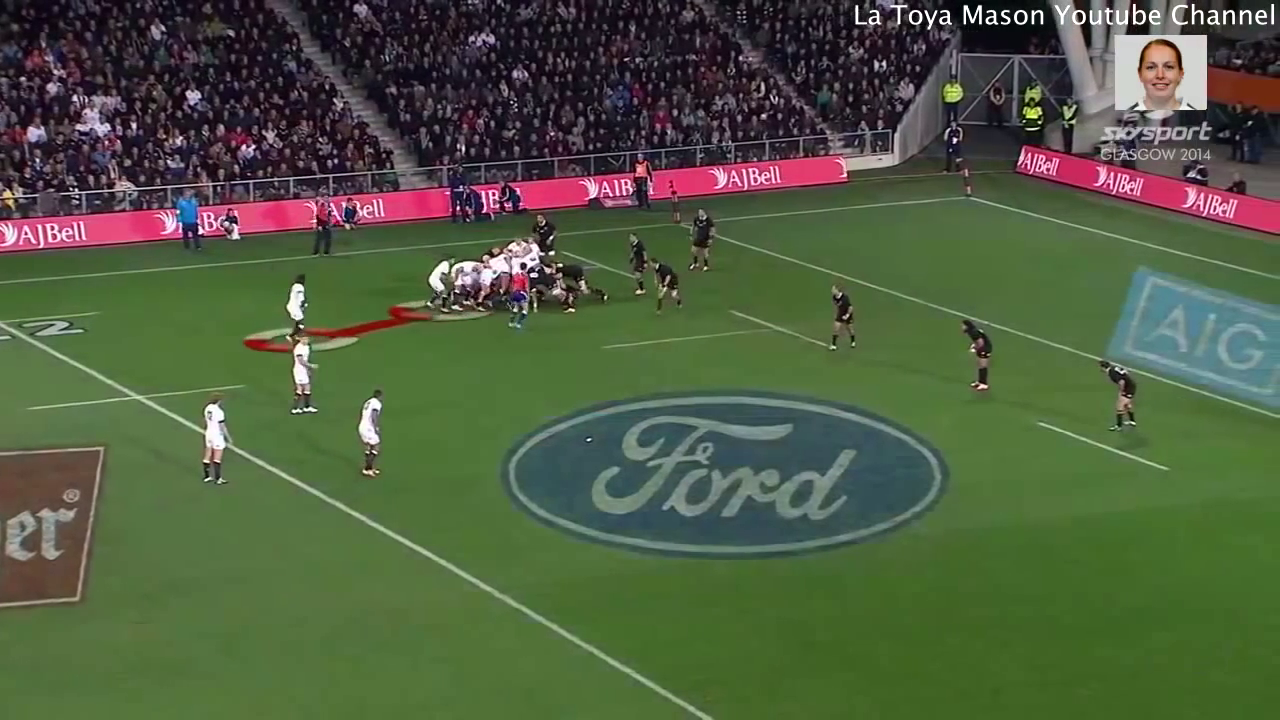player: (343, 383, 401, 491), (188, 388, 234, 496), (1094, 356, 1152, 435), (951, 314, 1001, 399), (281, 331, 325, 427), (816, 274, 866, 357), (681, 200, 726, 283), (282, 266, 322, 357), (642, 251, 690, 321), (552, 256, 613, 306), (421, 247, 463, 317), (622, 221, 655, 298), (472, 250, 512, 311), (521, 266, 571, 310), (504, 259, 533, 332), (444, 253, 478, 305), (529, 207, 560, 260), (525, 227, 543, 269), (500, 234, 529, 256)
